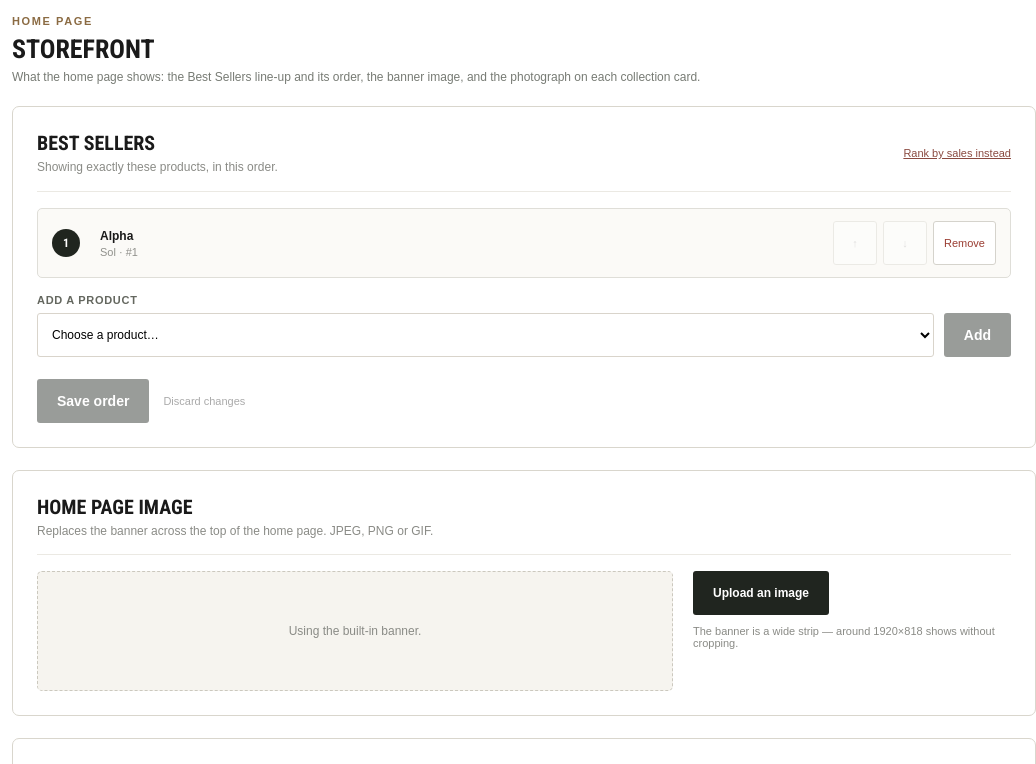
Test: clearing the curation hands the section back to the sales ranking
This screenshot has width=1036, height=764.
Click the button "Rank by sales instead" at (957, 153), box [903,131,1011,175]
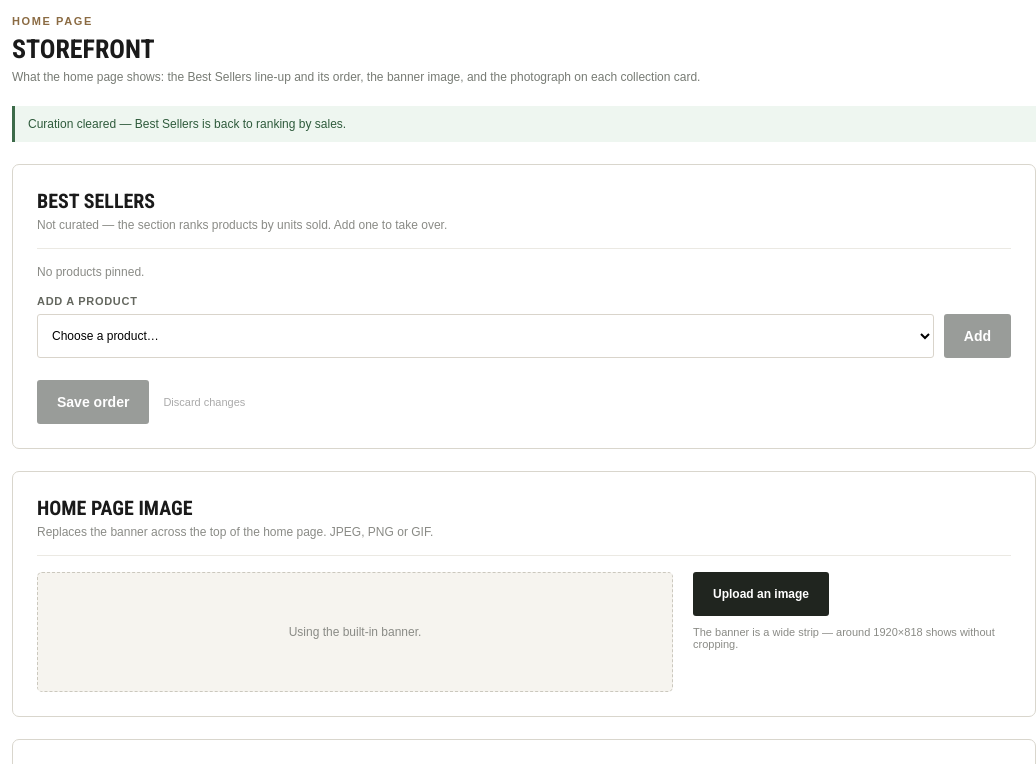
Check: the text "Curation cleared — Best Sellers is back to ranking by sales." is shown, box [12,106,1035,142]
